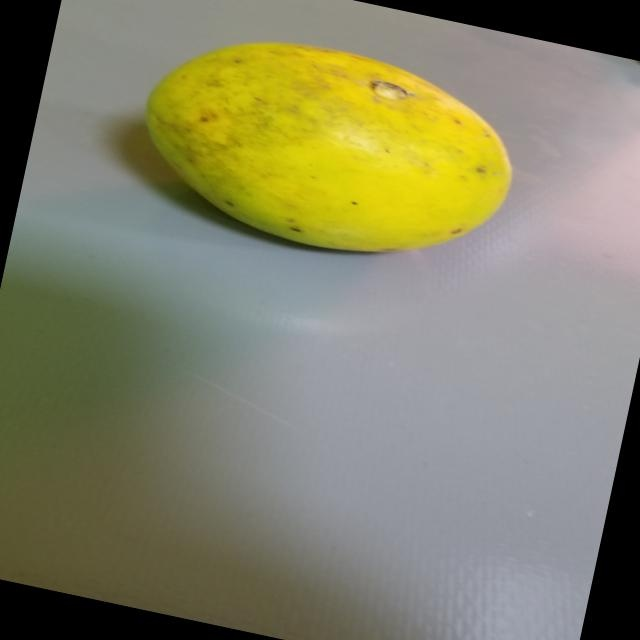agrume: (120, 8, 562, 293)
